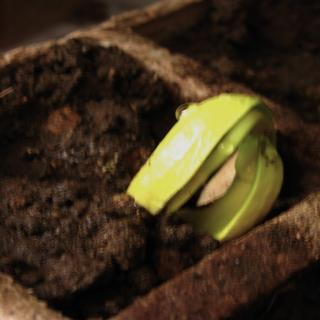Banana: (125, 94, 286, 245)
